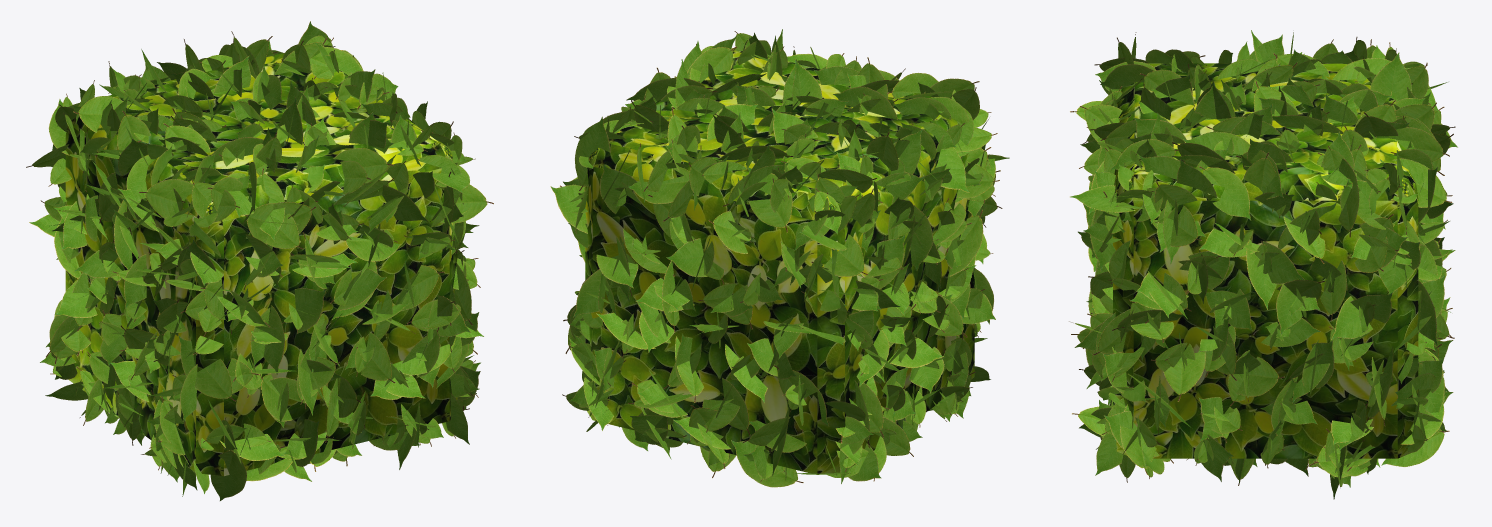
Rendered from Arbusto_2.fbx.
3 views of the same model, side by side, from view 1: azimuth 30°, elevation 25°; view 2: azimuth 150°, elevation 25°; view 3: azimuth 270°, elevation 25° (orthographic).
Visible parts, largest first — view 1: Arbusto, Arbusto|Hoja|Dupli|1034, Arbusto|Hoja|Dupli|985, Arbusto|Hoja|Dupli|847, Arbusto|Hoja|Dupli|144, Arbusto|Hoja|Dupli|1021, Arbusto|Hoja|Dupli|10, Arbusto|Hoja|Dupli|4, Arbusto|Hoja|Dupli|90, Arbusto|Hoja|Dupli|70, Arbusto|Hoja|Dupli|138, Arbusto|Hoja|Dupli|1041 (+33 smaller); view 2: Arbusto, Arbusto|Hoja|Dupli|989, Arbusto|Hoja|Dupli|393, Arbusto|Hoja|Dupli|971, Arbusto|Hoja|Dupli|227, Arbusto|Hoja|Dupli|160, Arbusto|Hoja|Dupli|991, Arbusto|Hoja|Dupli|555, Arbusto|Hoja|Dupli|475, Arbusto|Hoja|Dupli|737, Arbusto|Hoja|Dupli|371, Arbusto|Hoja|Dupli|251 (+42 smaller); view 3: Arbusto, Arbusto|Hoja|Dupli|1006, Arbusto|Hoja|Dupli|1047, Arbusto|Hoja|Dupli|510, Arbusto|Hoja|Dupli|988, Arbusto|Hoja|Dupli|642, Arbusto|Hoja|Dupli|211, Arbusto|Hoja|Dupli|619, Arbusto|Hoja|Dupli|583, Arbusto|Hoja|Dupli|967, Arbusto|Hoja|Dupli|503, Arbusto|Hoja|Dupli|1007 (+59 smaller).
Boxes of the visible parts, box(x1,y1,x2,y2) form: Arbusto: box(65, 53, 457, 476); Arbusto|Hoja|Dupli|1034: box(178, 335, 235, 401); Arbusto|Hoja|Dupli|985: box(139, 179, 193, 224); Arbusto|Hoja|Dupli|847: box(210, 450, 246, 500); Arbusto|Hoja|Dupli|144: box(294, 288, 326, 333); Arbusto|Hoja|Dupli|1021: box(256, 168, 285, 240); Arbusto|Hoja|Dupli|10: box(361, 331, 395, 383); Arbusto|Hoja|Dupli|4: box(333, 148, 393, 183); Arbusto|Hoja|Dupli|90: box(401, 265, 444, 310); Arbusto|Hoja|Dupli|70: box(263, 305, 284, 375); Arbusto|Hoja|Dupli|138: box(337, 269, 386, 310); Arbusto|Hoja|Dupli|1041: box(73, 96, 127, 132); Arbusto: box(585, 48, 974, 474); Arbusto|Hoja|Dupli|989: box(747, 167, 792, 232); Arbusto|Hoja|Dupli|393: box(731, 440, 803, 487); Arbusto|Hoja|Dupli|971: box(575, 116, 610, 191); Arbusto|Hoja|Dupli|227: box(947, 210, 983, 276); Arbusto|Hoja|Dupli|160: box(823, 234, 867, 276); Arbusto|Hoja|Dupli|991: box(628, 167, 689, 203); Arbusto|Hoja|Dupli|555: box(550, 184, 587, 233); Arbusto|Hoja|Dupli|475: box(666, 238, 707, 276); Arbusto|Hoja|Dupli|737: box(833, 86, 897, 119); Arbusto|Hoja|Dupli|371: box(600, 164, 637, 213); Arbusto|Hoja|Dupli|251: box(910, 205, 932, 270); Arbusto: box(1113, 63, 1418, 458); Arbusto|Hoja|Dupli|1006: box(1199, 166, 1250, 220); Arbusto|Hoja|Dupli|1047: box(1370, 52, 1412, 100); Arbusto|Hoja|Dupli|510: box(1163, 352, 1205, 401); Arbusto|Hoja|Dupli|988: box(1379, 158, 1452, 207); Arbusto|Hoja|Dupli|642: box(1236, 356, 1284, 396); Arbusto|Hoja|Dupli|211: box(1375, 127, 1449, 161); Arbusto|Hoja|Dupli|619: box(1331, 296, 1372, 339); Arbusto|Hoja|Dupli|583: box(1378, 220, 1420, 293); Arbusto|Hoja|Dupli|967: box(1070, 185, 1136, 212); Arbusto|Hoja|Dupli|503: box(1246, 239, 1276, 309); Arbusto|Hoja|Dupli|1007: box(1338, 158, 1359, 237).
Bounding box in the file's own units: 276 × 278 × 277.
Materials: 2 (2 with a texture image).
